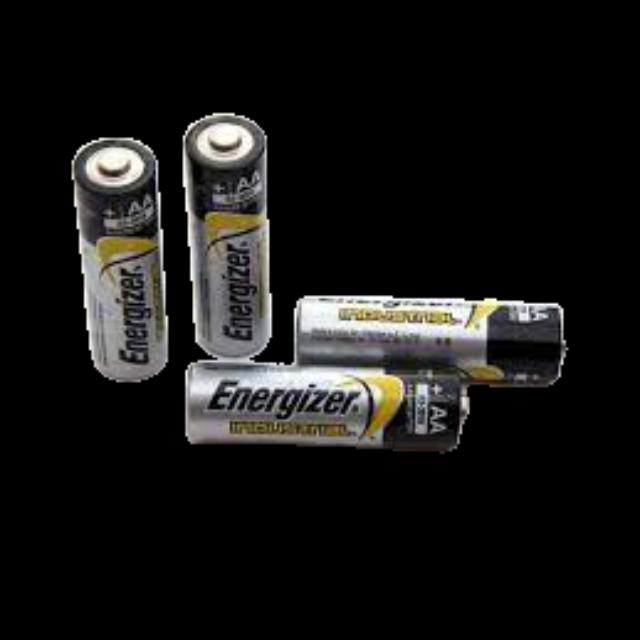Battery: (185, 359, 469, 456)
